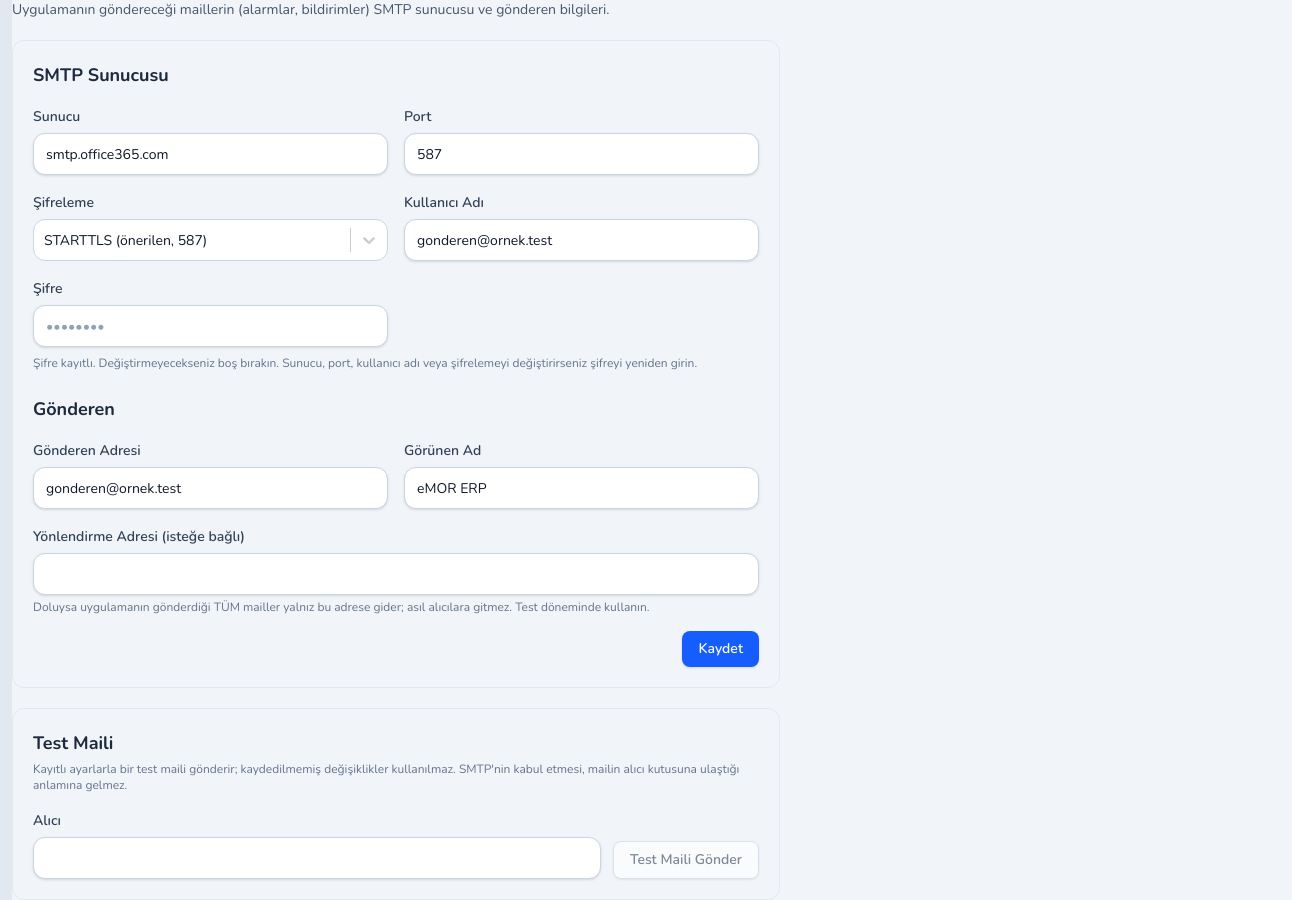
Test: MailAyarlariPage › test maili SMTP hatasını gösterir
(page scrolled)
Expected: the field showing "smtp.office365.com" is shown, [33,133,388,175]
In the field with id "mail-test-alici": (317, 858) [33,837,601,879], type "alici@ornek.test"
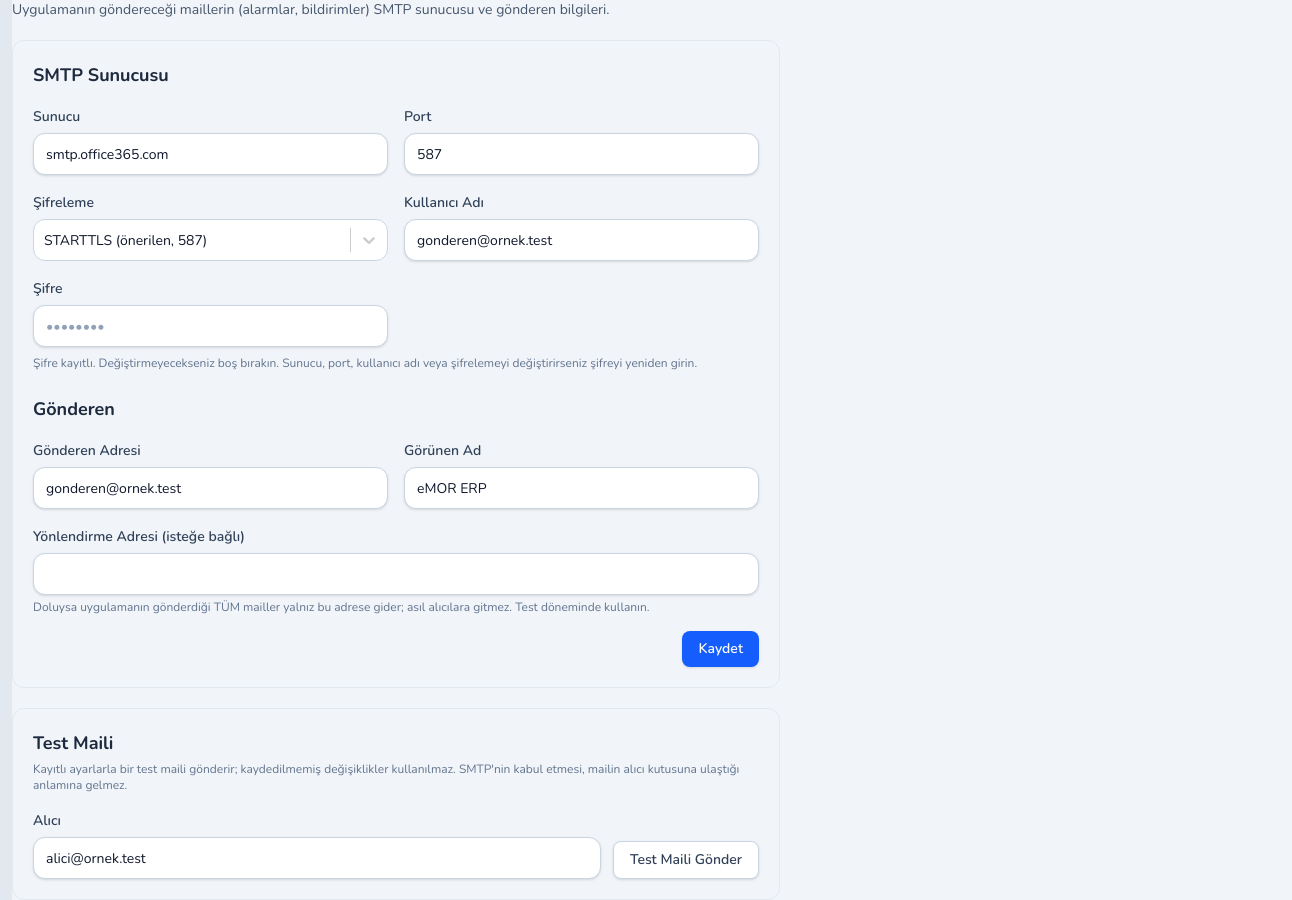
Click the button "Test Maili Gönder": (686, 860) [613,841,759,879]
(page scrolled)
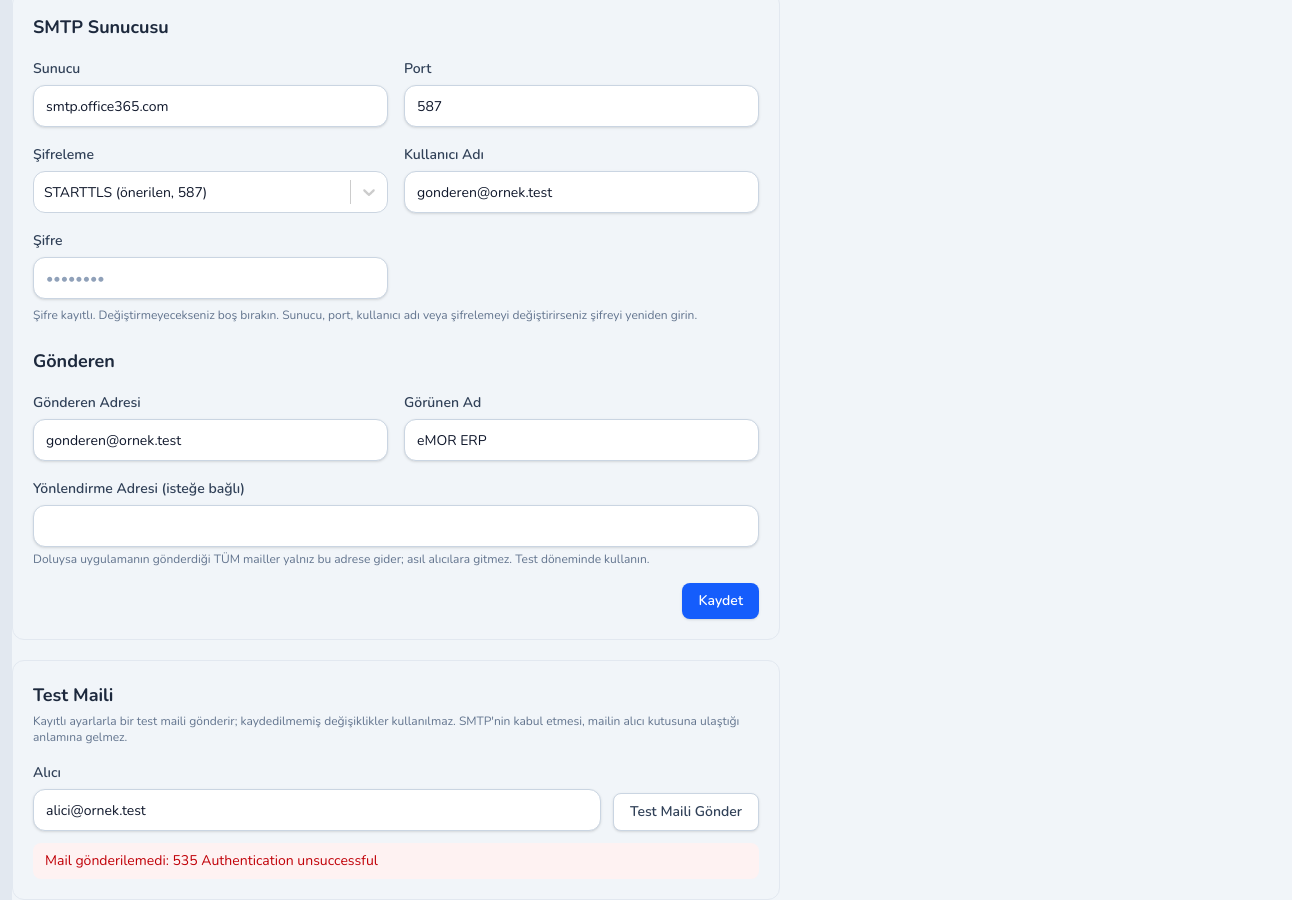
Result: the message shows "535 Authentication unsuccessful" at [45,851,378,870]
